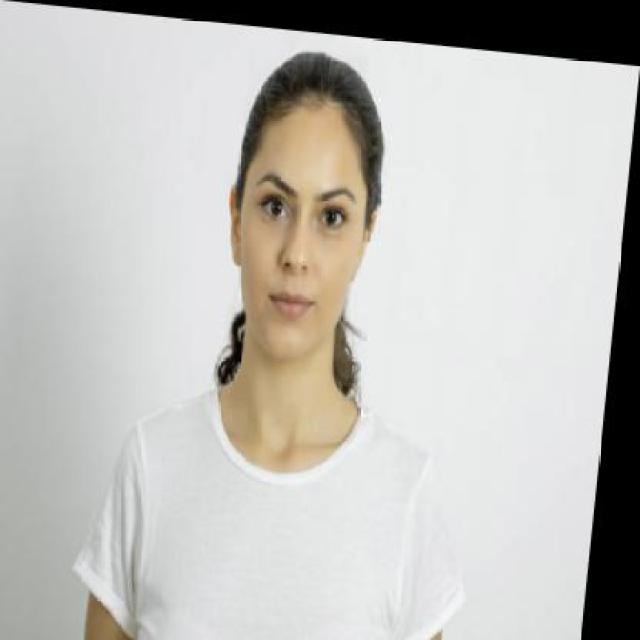Healthy: (248, 319, 334, 451)
